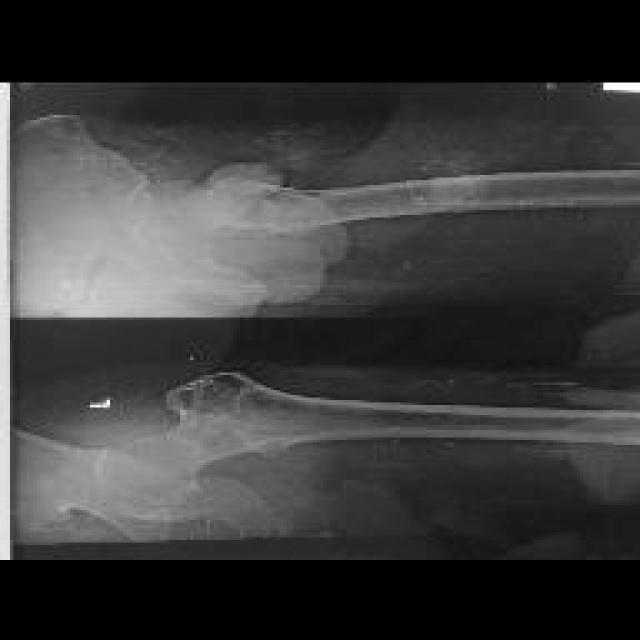bone-cancer: (165, 371, 270, 420)
